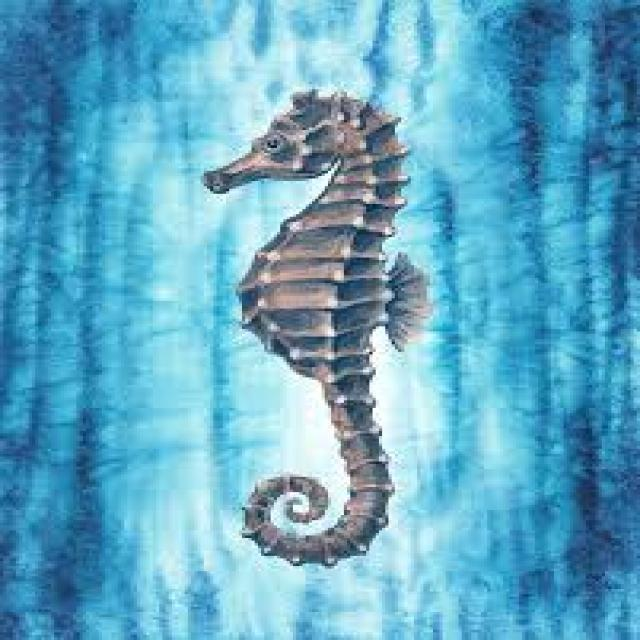SeaHorse: (204, 89, 436, 571)
